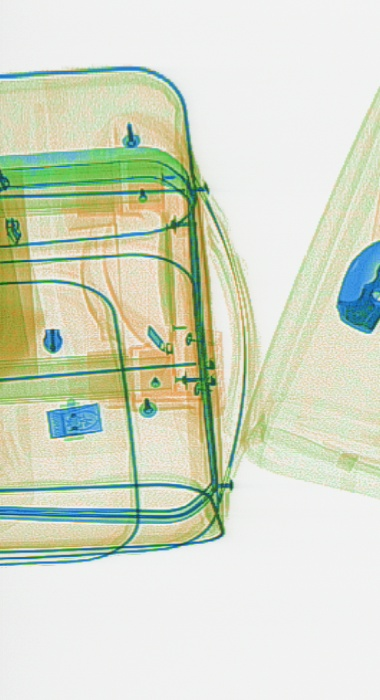knife: (325, 231, 378, 334)
